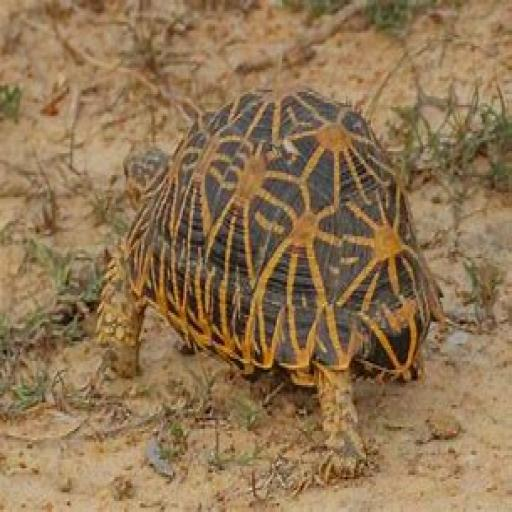turtle: (76, 72, 453, 485)
